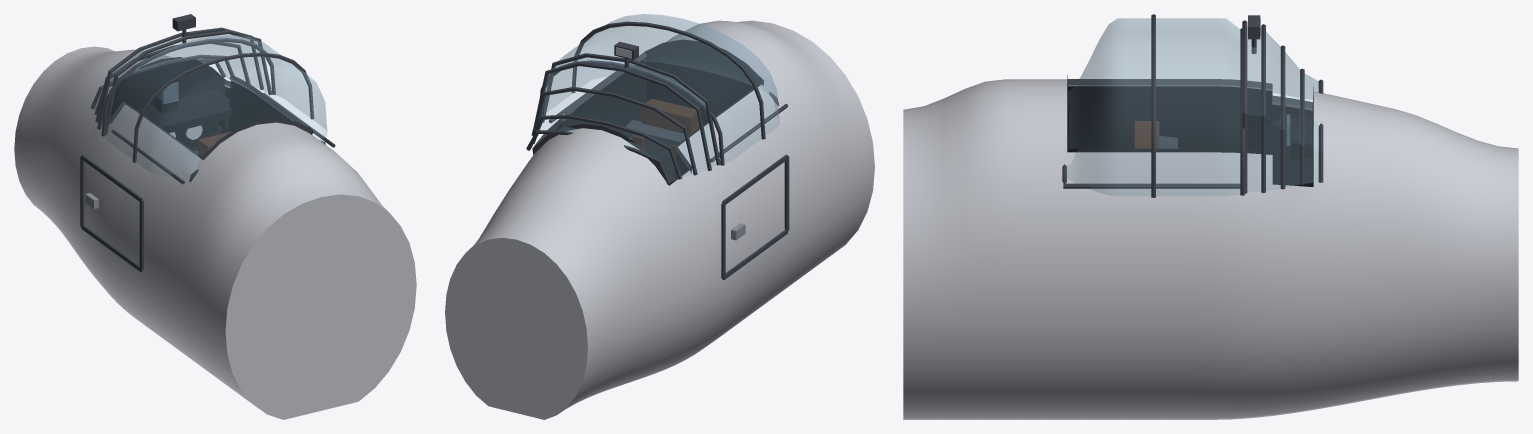
File: cockpit_spitfire.glb
The picture shows the model from 3 angles, left to right: view 1: azimuth 30°, elevation 25°; view 2: azimuth 150°, elevation 25°; view 3: azimuth 270°, elevation 25°; orthographic projection. The views are drawn at different scales.
Parts seen in each view (by area): view 1: cockpit_spitfire, cockpit_spitfire_Glas; view 2: cockpit_spitfire, cockpit_spitfire_Glas; view 3: cockpit_spitfire, cockpit_spitfire_Glas.
Boxes of the visible parts, left/top/right/bottom form: cockpit_spitfire: left=14, top=14, right=416, bottom=419; cockpit_spitfire_Glas: left=90, top=27, right=335, bottom=184; cockpit_spitfire: left=445, top=20, right=874, bottom=419; cockpit_spitfire_Glas: left=526, top=14, right=787, bottom=184; cockpit_spitfire: left=903, top=15, right=1518, bottom=419; cockpit_spitfire_Glas: left=1062, top=14, right=1323, bottom=197.
Size of the model in its own units: 1.18 by 1.68 by 2.5.
